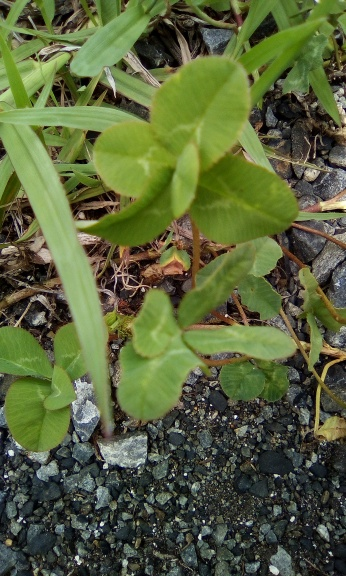4leaf: (73, 55, 299, 247), (118, 245, 297, 423), (1, 319, 109, 454)
